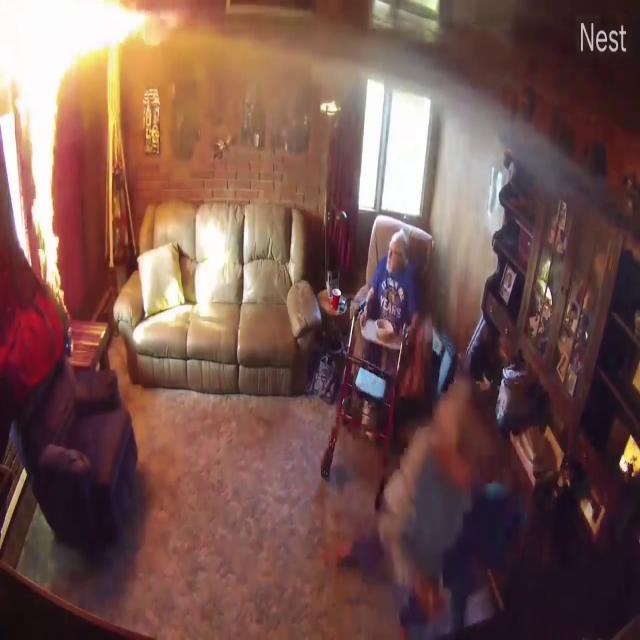Fire: (0, 2, 72, 288)
Smoke: (162, 205, 232, 332)
